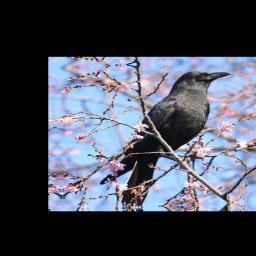Crow: (88, 68, 245, 207)
